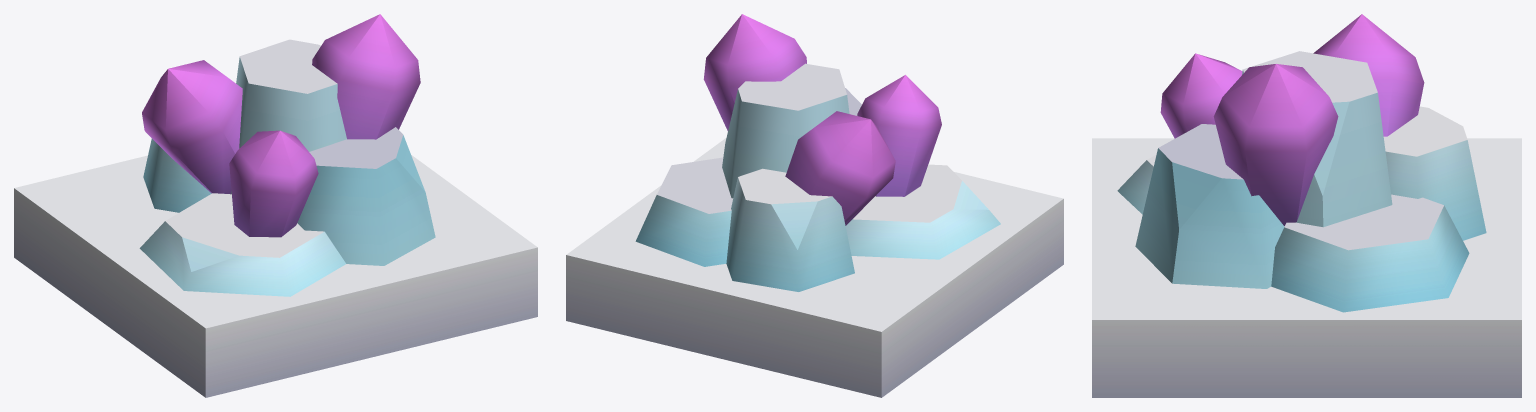
Rendered from kenney-tower-defense-snow-tile-crystal.glb.
3 views of the same model, side by side, from view 1: azimuth 30°, elevation 25°; view 2: azimuth 150°, elevation 25°; view 3: azimuth 270°, elevation 25° (orthographic). The views are drawn at different scales.
Parts seen in each view (by area): view 1: snow-tile-crystal; view 2: snow-tile-crystal; view 3: snow-tile-crystal.
Boxes of the visible parts, x1,y1,x2,y2 form: snow-tile-crystal: (14, 14, 537, 397); snow-tile-crystal: (566, 14, 1063, 397); snow-tile-crystal: (1092, 14, 1521, 397).
Size of the model in its own units: 1 by 0.7518 by 1.
1 material, 1 textured.
